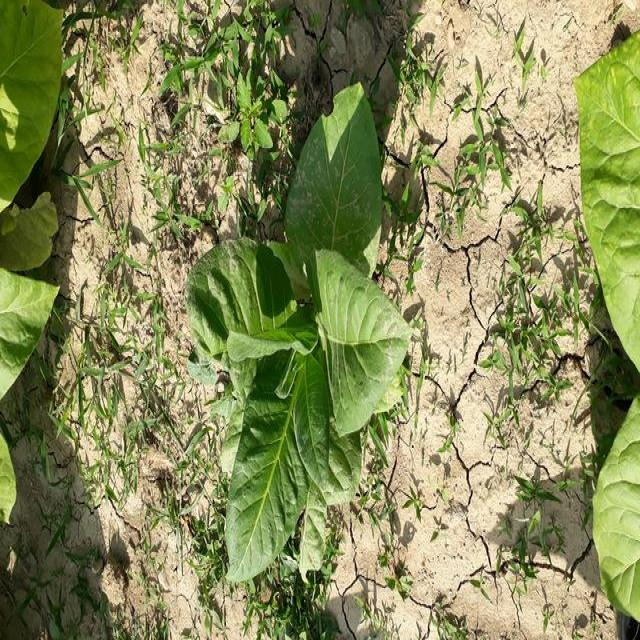crop: (193, 96, 404, 567), (558, 71, 640, 355), (4, 4, 66, 218), (0, 203, 60, 413), (603, 399, 640, 629)
